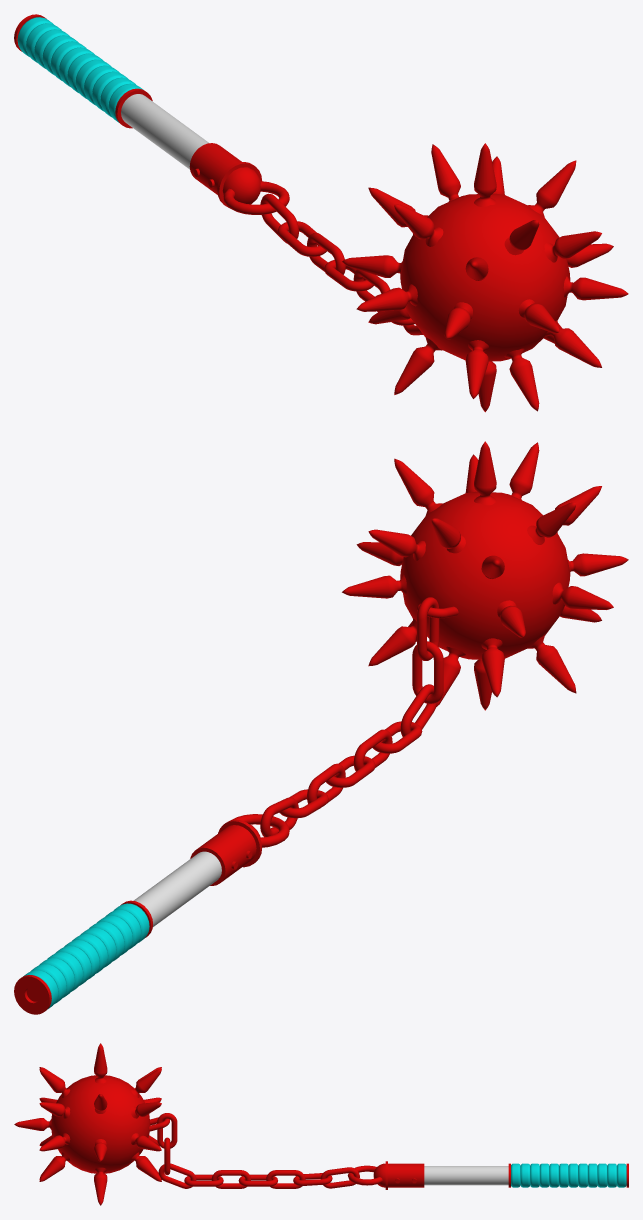
Rendered from Flail.fbx.
3 views of the same model, one above another, from view 1: azimuth 30°, elevation 25°; view 2: azimuth 150°, elevation 25°; view 3: azimuth 270°, elevation 25° (orthographic). The views are drawn at different scales.
Visible parts, largest first — view 1: Flail; view 2: Flail; view 3: Flail.
Part boxes in pixels (x1=…): Flail: x1=14, y1=14, x2=628, y2=412; Flail: x1=14, y1=441, x2=628, y2=1014; Flail: x1=14, y1=1043, x2=628, y2=1205.
Bounding box in the file's own units: 30.05 × 30.05 × 107.
